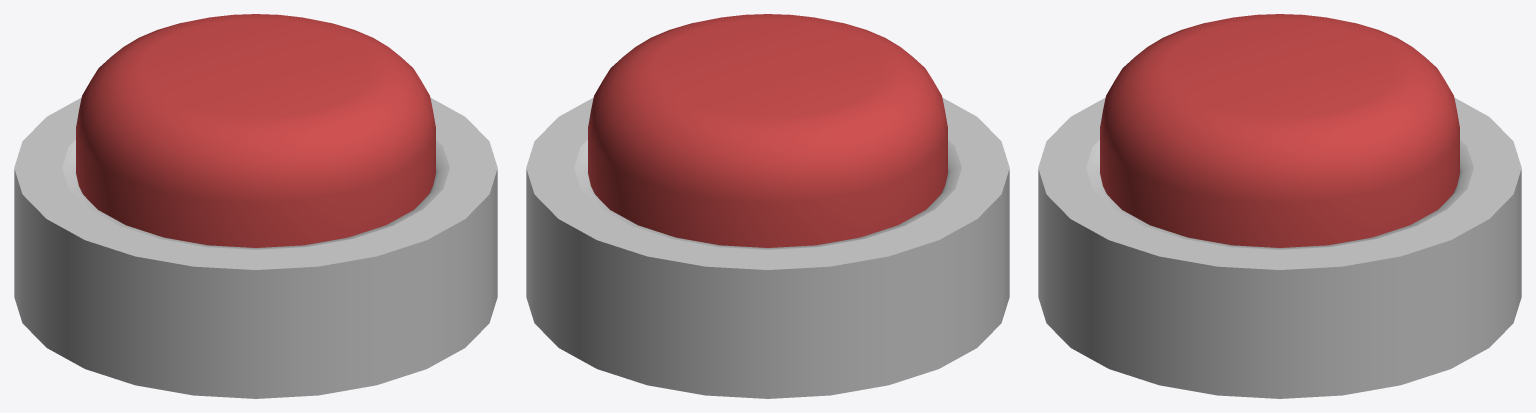
The model's file is Button.fbx.
3 views of the same model, side by side, from view 1: azimuth 30°, elevation 25°; view 2: azimuth 150°, elevation 25°; view 3: azimuth 270°, elevation 25° (orthographic).
Parts seen in each view (by area): view 1: Cylinder, Cylinder_1; view 2: Cylinder, Cylinder_1; view 3: Cylinder, Cylinder_1.
Part boxes in pixels (x1=…): Cylinder: x1=14, y1=97, x2=497, y2=398; Cylinder_1: x1=76, y1=14, x2=435, y2=247; Cylinder: x1=526, y1=97, x2=1009, y2=398; Cylinder_1: x1=588, y1=14, x2=947, y2=247; Cylinder: x1=1038, y1=97, x2=1521, y2=398; Cylinder_1: x1=1100, y1=14, x2=1459, y2=247.
Bounding box in the file's own units: 100 × 52.14 × 100.
